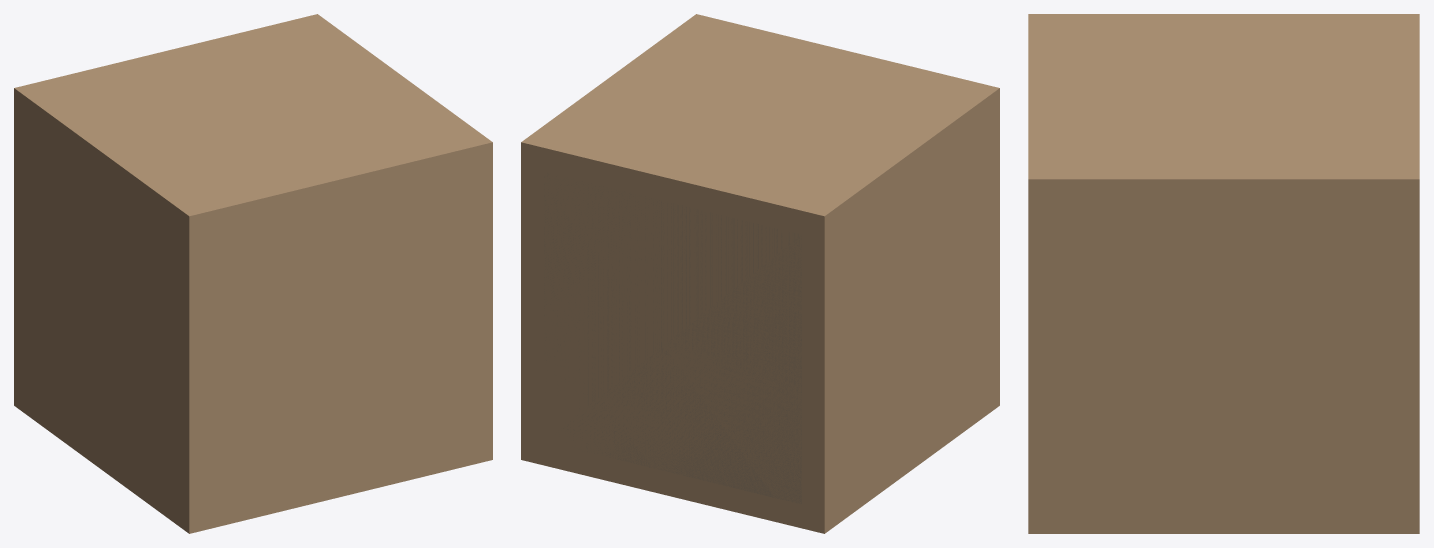
File: 80_coconuts.glb
The picture shows the model from 3 angles, left to right: view 1: azimuth 30°, elevation 25°; view 2: azimuth 150°, elevation 25°; view 3: azimuth 270°, elevation 25°; orthographic projection. The views are drawn at different scales.
Visible parts, largest first — view 1: Core; view 2: Core, Soil; view 3: Core.
Part boxes in pixels (<box>): Core: <box>14,14,492,533</box>; Core: <box>521,14,999,533</box>; Soil: <box>544,173,801,503</box>; Core: <box>1028,14,1419,533</box>.
Bounding box in the file's own units: 1 × 1 × 1.
